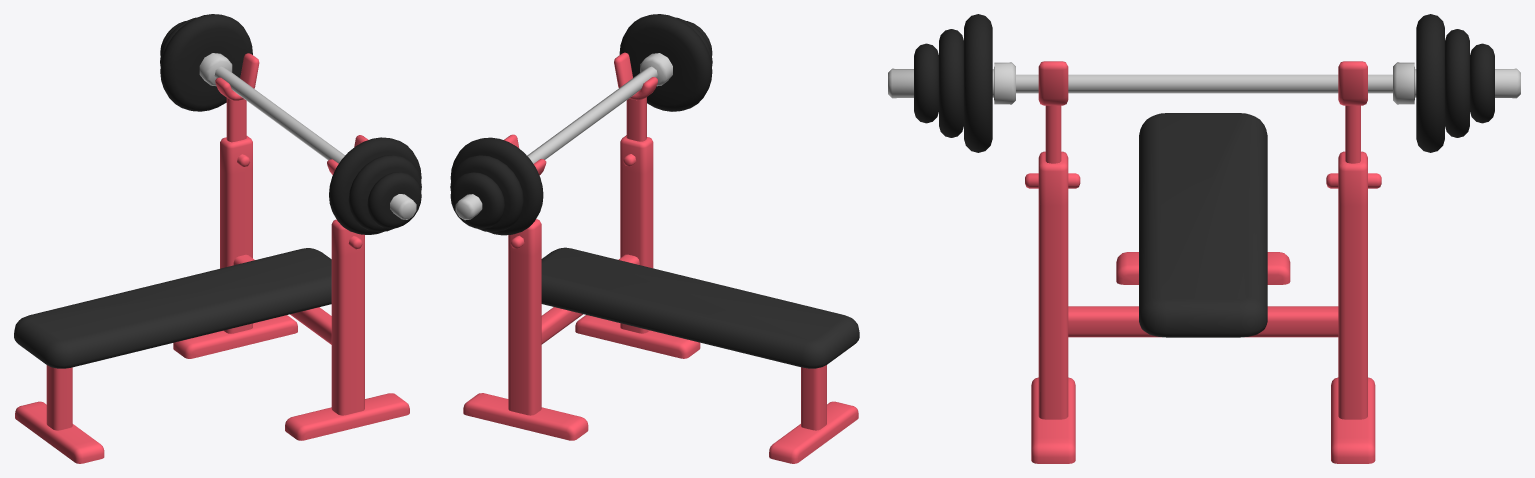
3 renders of one model, left to right at view 1: azimuth 30°, elevation 25°; view 2: azimuth 150°, elevation 25°; view 3: azimuth 270°, elevation 25°, orthographic. The views are drawn at different scales.
Visible parts, largest first — view 1: BarbellStand_01.001; view 2: BarbellStand_01.001; view 3: BarbellStand_01.001.
Boxes of the visible parts, x1,y1,x2,y2 form: BarbellStand_01.001: [14, 14, 421, 463]; BarbellStand_01.001: [450, 14, 859, 463]; BarbellStand_01.001: [888, 14, 1520, 463].
Size of the model in its own units: 1.33 by 1.22 by 1.72.
